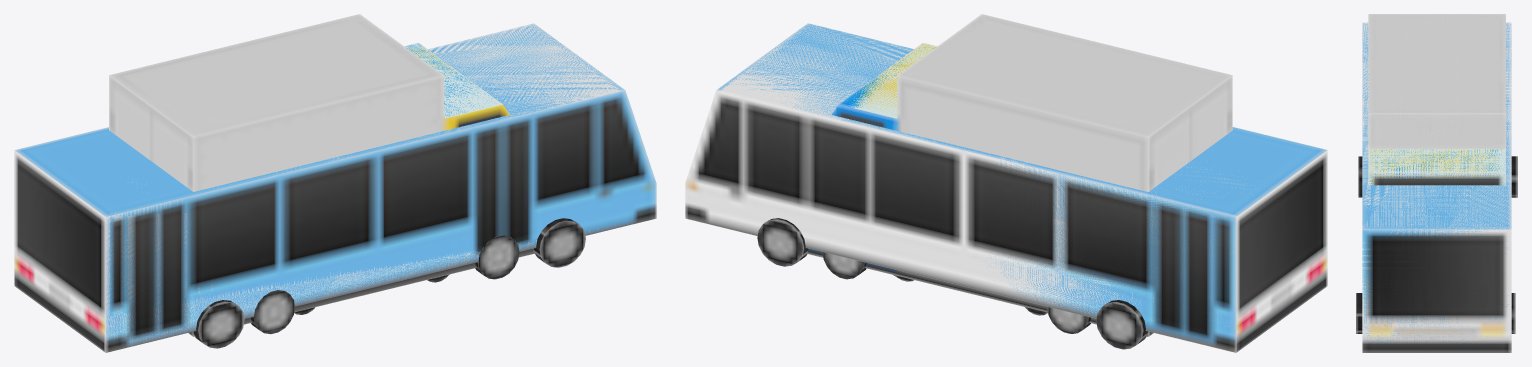
The model's file is props.glb.
3 views of the same model, side by side, from view 1: azimuth 30°, elevation 25°; view 2: azimuth 150°, elevation 25°; view 3: azimuth 270°, elevation 25° (orthographic). The views are drawn at different scales.
Parts seen in each view (by area): view 1: car_12, car_10, car_08, car_07, car_09; view 2: car_10, car_12, car_09, car_07, car_08; view 3: car_09, car_10, car_12, car_08, car_07.
Part boxes in pixels (bbox=[...]): car_12: bbox=[14, 23, 656, 352]; car_10: bbox=[14, 23, 623, 352]; car_08: bbox=[109, 16, 534, 336]; car_07: bbox=[109, 14, 519, 334]; car_09: bbox=[109, 14, 502, 336]; car_10: bbox=[685, 23, 1327, 352]; car_12: bbox=[717, 23, 1327, 352]; car_09: bbox=[849, 15, 1232, 336]; car_07: bbox=[807, 14, 1216, 336]; car_08: bbox=[855, 14, 1232, 171]; car_09: bbox=[1368, 14, 1505, 185]; car_10: bbox=[1358, 22, 1517, 352]; car_12: bbox=[1356, 22, 1517, 352]; car_08: bbox=[1368, 14, 1504, 185]; car_07: bbox=[1368, 14, 1505, 185].
Size of the model in its own units: 5.29 by 1.95 by 1.65.
15 materials, 12 textured.
